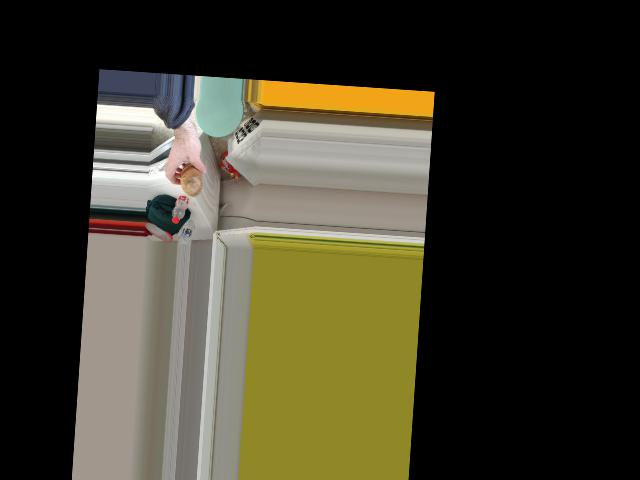sweet_potato: (177, 159, 207, 199)
